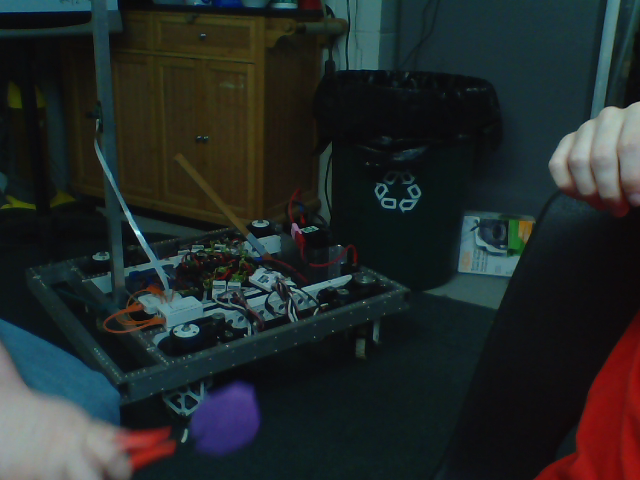ball: (191, 380, 262, 454)
